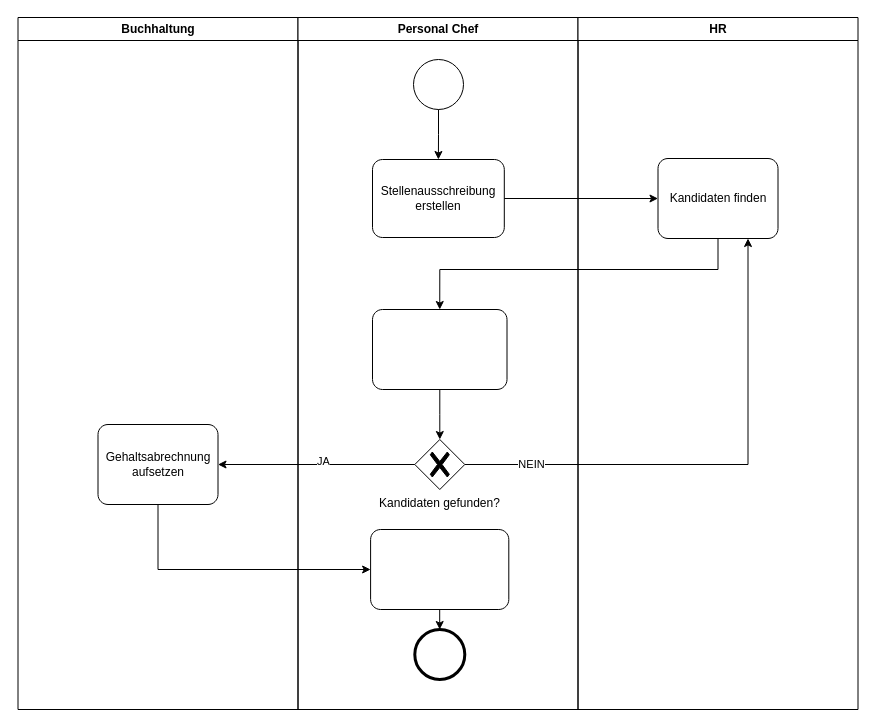
The diagram is 875 pixels wide and 727 high, and some of its shapes have lost their labels. The centre of each missing label's shape, as x and y in pixels:
Bewerbungsgespräche führen: (x=439, y=349)
Einführung des neuen Mitarbeiters: (x=439, y=569)
Ende: (x=439, y=654)
Start: (x=438, y=84)
